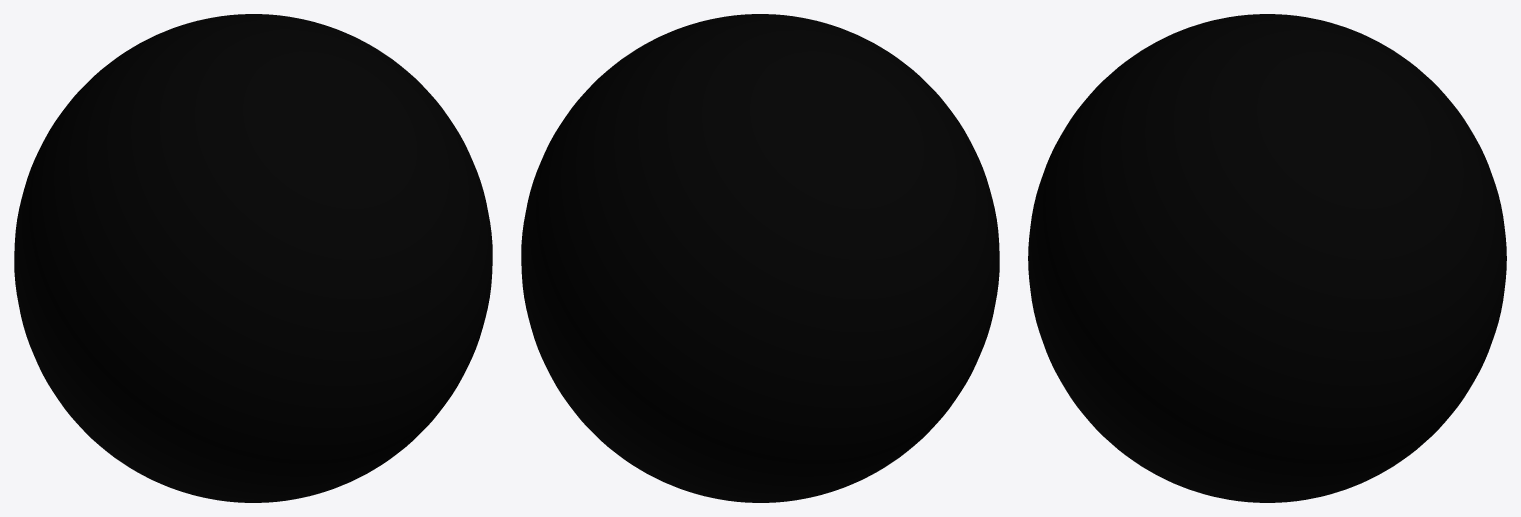
The picture shows the model from 3 angles, left to right: view 1: azimuth 30°, elevation 25°; view 2: azimuth 150°, elevation 25°; view 3: azimuth 270°, elevation 25°; orthographic projection.
Parts seen in each view (by area): view 1: Sphere; view 2: Sphere; view 3: Sphere.
Boxes of the visible parts, bbox=[...] form: Sphere: bbox=[14, 14, 492, 502]; Sphere: bbox=[521, 14, 999, 502]; Sphere: bbox=[1028, 14, 1506, 502].
Size of the model in its own units: 1.94 by 1.99 by 1.94.
Materials: 1 (1 with a texture image).
